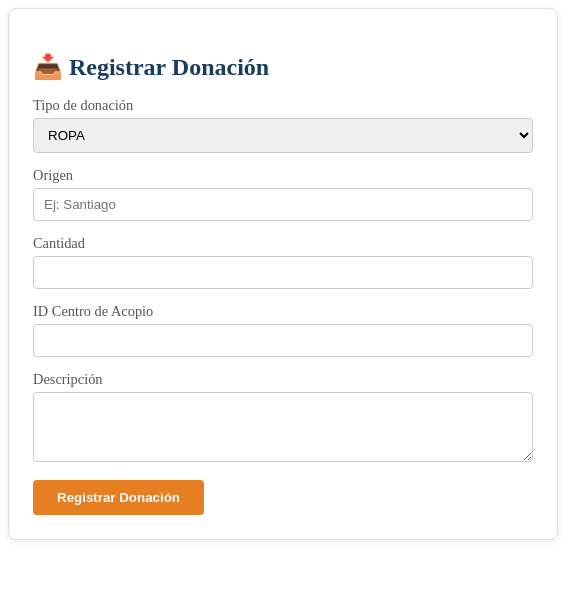
DonacionForm › muestra mensaje de éxito cuando la donación se registra correctamente
The image size is (575, 610).
Type "Santiago" into the field with placeholder "Ej: Santiago" at (283, 204), box [33, 188, 533, 221]
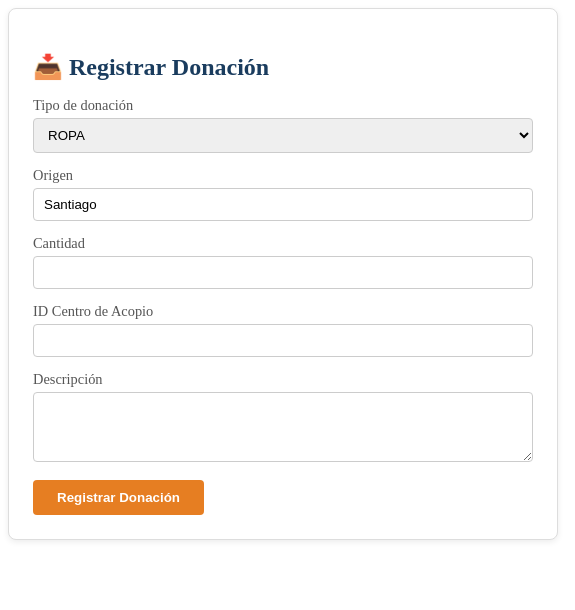
Type "15" into the number field below "Cantidad" at (283, 272), box [33, 256, 533, 289]
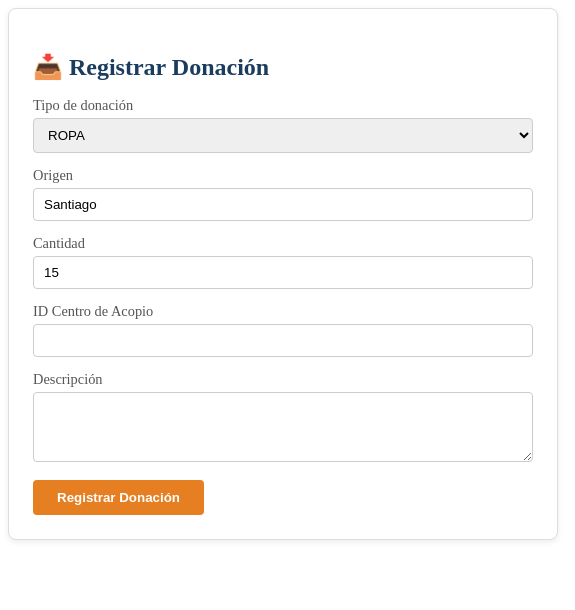
Type "2" into the number field below "ID Centro de Acopio" at (283, 340), box [33, 324, 533, 357]
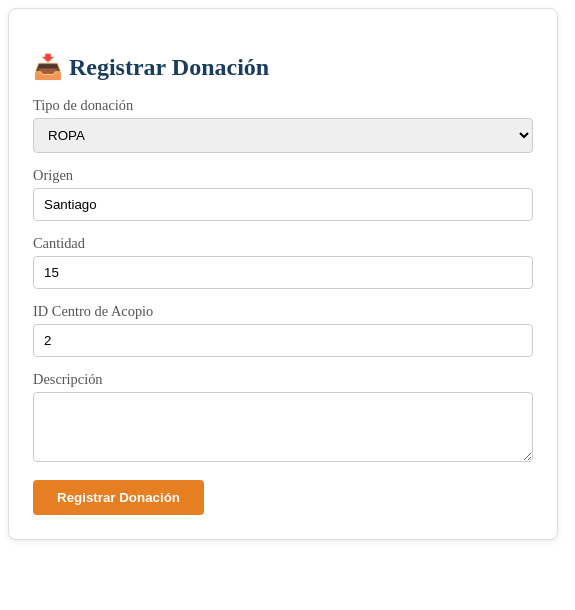
Click the button "Registrar Donación" at (118, 497), box [33, 480, 204, 515]
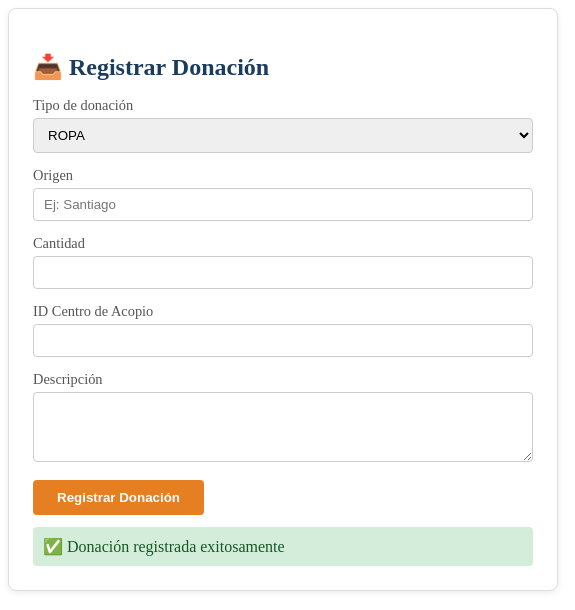
Check: the text "✅ Donación registrada exitosamente" is shown, box [33, 527, 533, 566]
